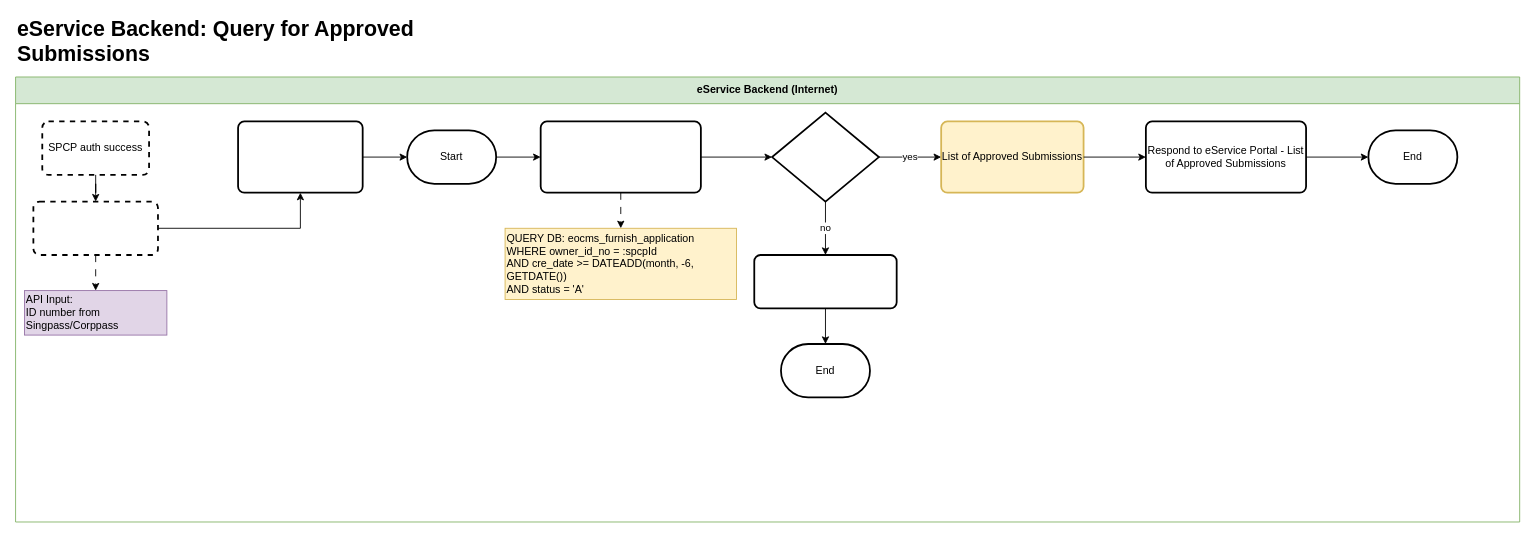
The diagram is 1535 pixels wide and 538 high, and some of its shapes have lost their labels. The box of each missing label's shape, as (x1, y1, x2, y2) in pixels:
Any record returned?: (771, 111, 879, 202)
eService Backend receives API request: (237, 120, 363, 193)
eService Portal sends API request: (32, 200, 158, 255)
Query Furnish Application table for Approved Notices (past 6 months): (539, 120, 701, 193)
Respond to eService Portal - No records found: (753, 254, 897, 309)
